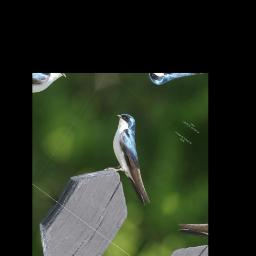Swallow: (85, 108, 183, 208)
